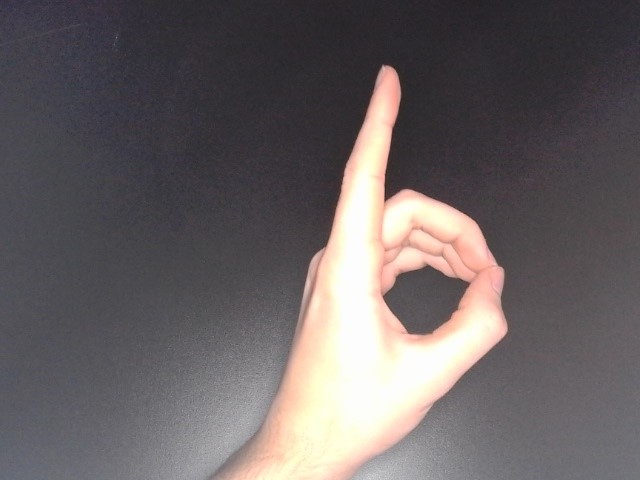d: (267, 59, 513, 467)
